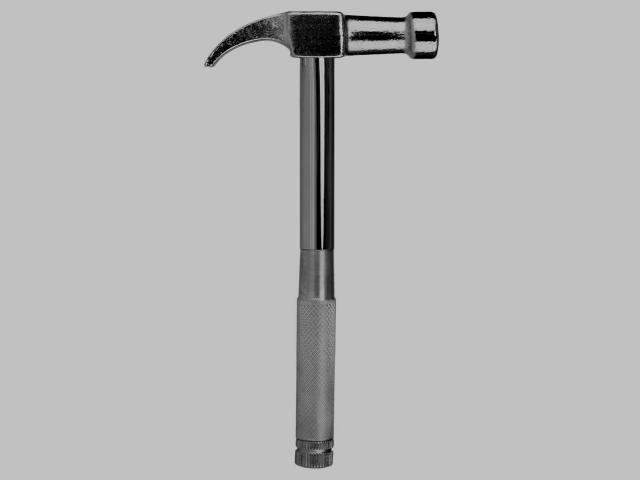Hammer: (205, 12, 439, 468)
